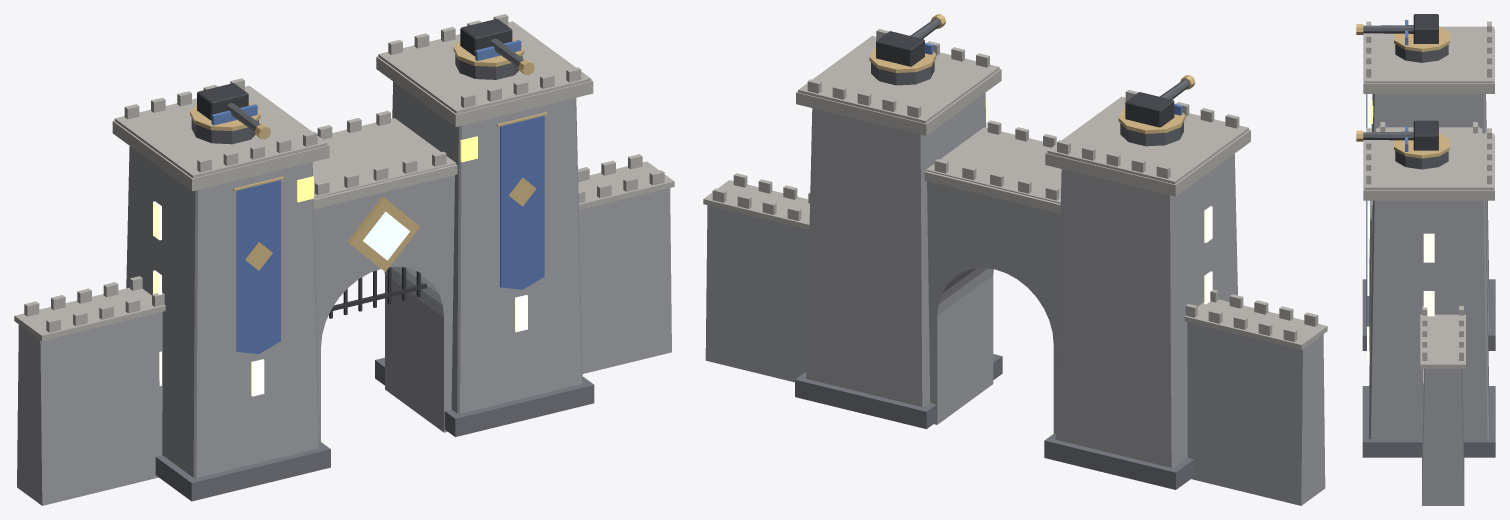
Rendered from gate.glb.
3 views of the same model, side by side, from view 1: azimuth 30°, elevation 25°; view 2: azimuth 150°, elevation 25°; view 3: azimuth 270°, elevation 25° (orthographic). The views are drawn at different scales.
Parts seen in each view (by area): view 1: gate, turret_r, turret_l; view 2: gate, turret_l, turret_r; view 3: gate, turret_l, turret_r.
Part boxes in pixels (left/top/right/bottom): gate: left=14, top=14, right=674, bottom=505; turret_r: left=453, top=18, right=534, bottom=79; turret_l: left=190, top=83, right=270, bottom=144; gate: left=703, top=29, right=1327, bottom=505; turret_l: left=1118, top=75, right=1195, bottom=146; turret_r: left=869, top=14, right=945, bottom=85; gate: left=1362, top=21, right=1495, bottom=505; turret_l: left=1356, top=14, right=1449, bottom=62; turret_r: left=1356, top=120, right=1449, bottom=169.
Size of the model in its own units: 43.2 by 23.95 by 9.95.
